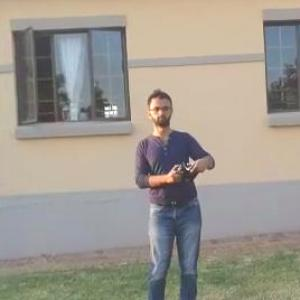follow: (131, 87, 227, 299)
